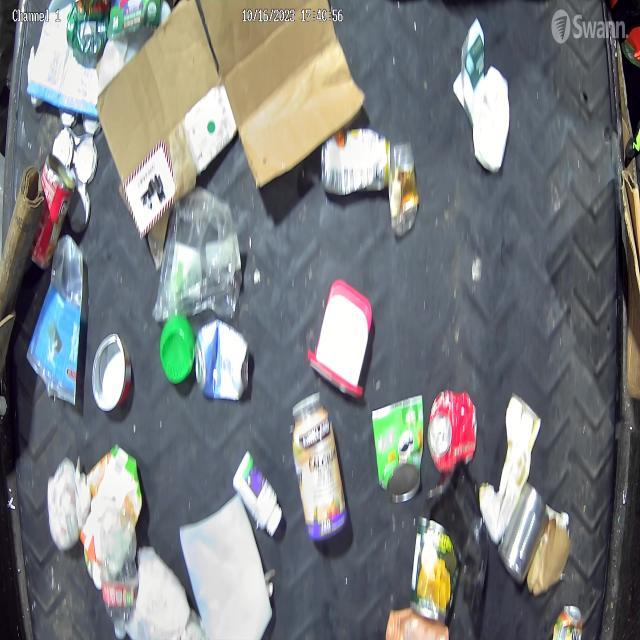can: (373, 396, 421, 504), (33, 162, 78, 274), (318, 130, 396, 192), (428, 381, 479, 474), (194, 319, 250, 403)
milk_jug: (178, 482, 274, 640)
